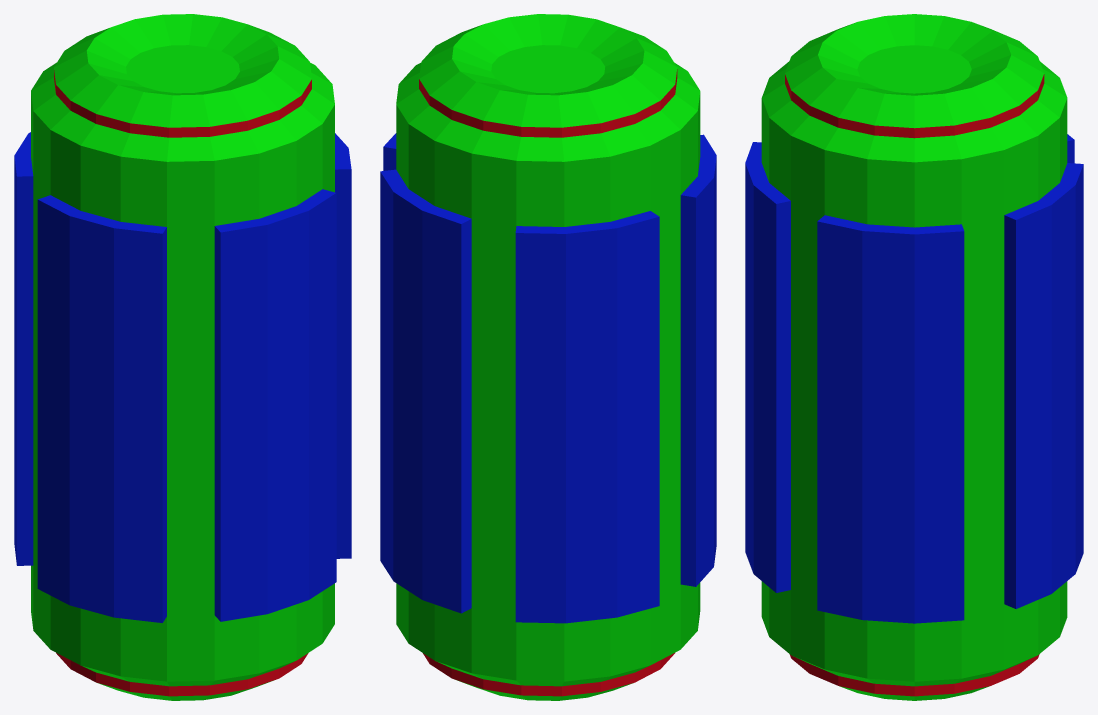
3 renders of one model, left to right at view 1: azimuth 30°, elevation 25°; view 2: azimuth 150°, elevation 25°; view 3: azimuth 270°, elevation 25°, orthographic.
Visible parts, largest first — view 1: box1_base; view 2: box1_base; view 3: box1_base.
Part boxes in pixels (<box>): box1_base: <box>14,14,351,700</box>; box1_base: <box>380,14,716,700</box>; box1_base: <box>745,14,1083,700</box>.
Bounding box in the file's own units: 221 × 437 × 221.
